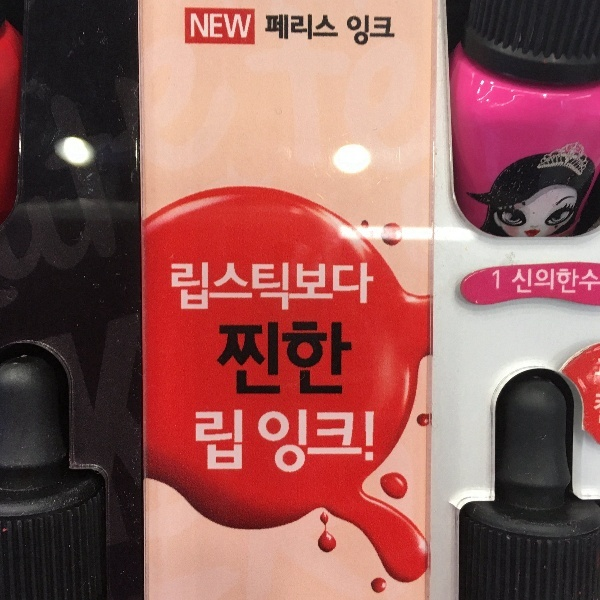text: (17, 26, 32, 325), (33, 26, 48, 325), (49, 26, 64, 325), (65, 26, 80, 325), (81, 26, 96, 325), (97, 26, 112, 325), (113, 26, 128, 325), (2, 26, 16, 325), (65, 304, 80, 559), (81, 304, 96, 559), (97, 304, 112, 559), (113, 304, 128, 559), (129, 304, 143, 559), (51, 304, 64, 559), (129, 26, 140, 325), (225, 317, 240, 397), (241, 317, 256, 397), (257, 317, 272, 397), (273, 317, 288, 397), (289, 317, 304, 397), (305, 317, 320, 397), (321, 317, 336, 397), (337, 317, 352, 397), (257, 411, 272, 476), (273, 411, 288, 476), (289, 411, 304, 476), (305, 411, 320, 476), (321, 411, 336, 476), (337, 411, 352, 476), (353, 411, 368, 476), (209, 410, 224, 472), (225, 410, 240, 472), (177, 262, 192, 316), (193, 262, 208, 316), (209, 262, 224, 316), (225, 262, 240, 316), (241, 262, 256, 316), (257, 262, 272, 316), (273, 262, 288, 316), (289, 262, 304, 316), (305, 262, 320, 316), (321, 262, 336, 316), (337, 262, 352, 316), (353, 262, 368, 316), (195, 410, 208, 472), (217, 317, 224, 397), (353, 13, 368, 48), (369, 13, 384, 48), (529, 267, 544, 296), (545, 267, 560, 296), (561, 267, 576, 296), (577, 267, 592, 296), (273, 14, 288, 42), (289, 14, 304, 42), (305, 14, 320, 42), (321, 14, 336, 42), (193, 13, 208, 40), (209, 13, 224, 40), (225, 13, 240, 40), (369, 411, 375, 476), (515, 267, 528, 296), (385, 13, 395, 48), (251, 411, 256, 476), (343, 13, 352, 48), (241, 13, 252, 40), (171, 262, 176, 316), (369, 262, 374, 316), (593, 267, 600, 296), (266, 14, 272, 42), (241, 410, 243, 472), (492, 268, 496, 292), (337, 14, 339, 42), (190, 13, 192, 40), (497, 268, 499, 292)
